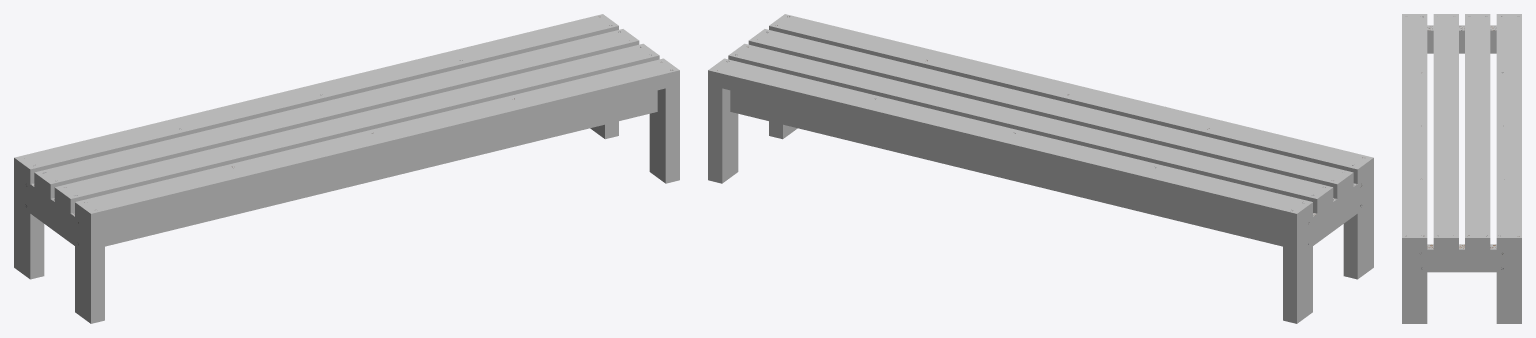
The picture shows the model from 3 angles, left to right: view 1: azimuth 30°, elevation 25°; view 2: azimuth 150°, elevation 25°; view 3: azimuth 270°, elevation 25°; orthographic projection. The views are drawn at different scales.
Visible parts, largest first — view 1: mesh1_mesh1-geometry; view 2: mesh1_mesh1-geometry; view 3: mesh1_mesh1-geometry.
Part boxes in pixels (x1,y1,x2,y2): mesh1_mesh1-geometry: [14, 14, 679, 323]; mesh1_mesh1-geometry: [708, 14, 1373, 323]; mesh1_mesh1-geometry: [1402, 14, 1521, 323].
Bounding box in the file's own units: 0.9609 × 0.1716 × 0.2173.
